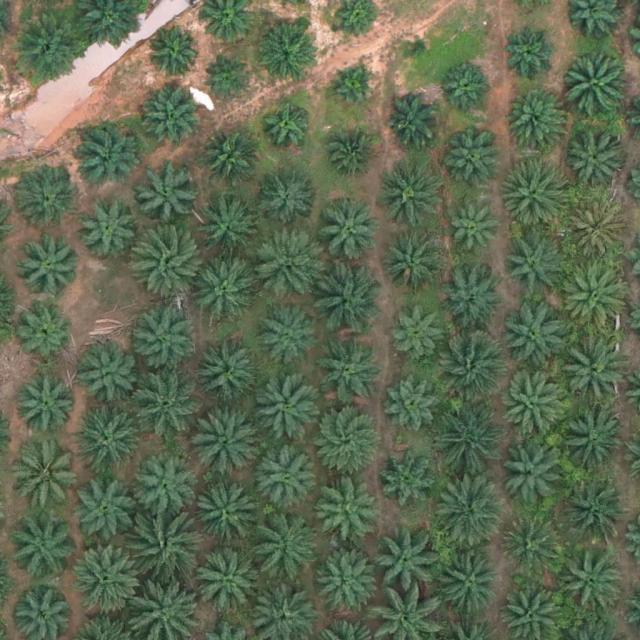Healthy: (7, 514, 78, 585), (70, 402, 141, 473), (434, 479, 504, 550), (434, 551, 504, 622), (194, 546, 264, 617), (435, 329, 505, 400), (433, 403, 503, 474), (312, 263, 382, 334), (309, 402, 380, 472), (251, 375, 322, 445), (252, 228, 322, 299), (192, 405, 262, 476), (132, 371, 202, 442), (129, 302, 199, 373), (133, 227, 203, 298), (14, 18, 84, 88), (502, 160, 572, 230), (252, 513, 322, 583), (128, 514, 198, 584), (71, 544, 141, 614), (559, 264, 629, 334), (14, 442, 84, 512), (564, 56, 627, 119), (254, 27, 317, 90), (505, 89, 568, 152), (317, 202, 380, 265), (137, 163, 200, 226), (502, 516, 565, 579), (504, 236, 567, 299), (504, 377, 567, 440), (440, 271, 503, 334), (255, 303, 318, 366), (192, 259, 255, 322), (72, 478, 135, 541), (17, 374, 80, 437), (19, 234, 82, 297), (564, 126, 626, 189), (444, 131, 506, 194), (380, 165, 442, 228), (139, 91, 202, 153), (74, 124, 136, 187), (16, 165, 78, 228), (559, 551, 621, 614), (320, 551, 382, 614), (562, 335, 624, 398), (563, 412, 625, 475), (503, 310, 565, 373), (500, 444, 563, 506), (376, 446, 438, 509), (384, 372, 447, 434), (382, 230, 444, 293), (313, 478, 375, 541), (256, 446, 318, 509), (199, 200, 261, 263), (195, 342, 257, 405), (192, 484, 254, 547), (135, 456, 197, 519), (77, 344, 139, 407), (566, 195, 628, 257), (76, 197, 138, 259), (372, 533, 434, 595), (565, 484, 627, 546), (316, 341, 378, 403), (257, 166, 319, 228), (324, 133, 379, 188), (504, 27, 559, 82), (446, 206, 501, 261), (439, 56, 494, 111), (387, 93, 442, 148), (147, 27, 202, 82), (392, 306, 447, 361), (19, 304, 74, 359), (202, 132, 256, 187)
Small: (329, 65, 376, 113), (207, 60, 254, 107), (263, 103, 310, 150), (403, 31, 434, 62)
